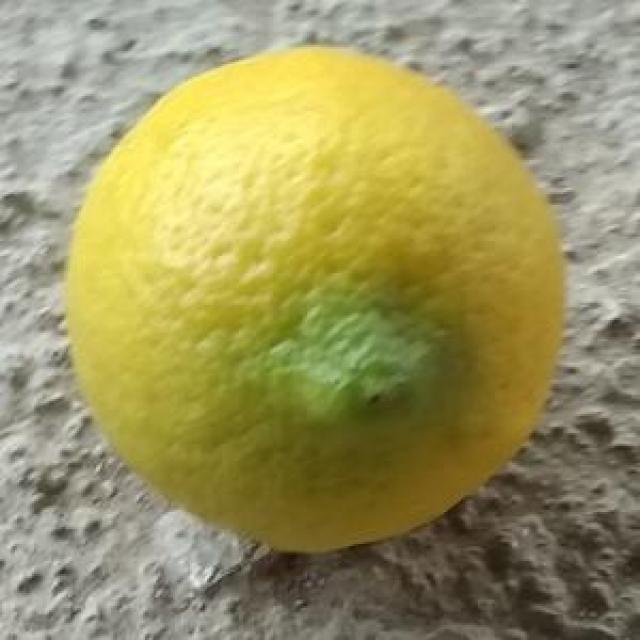lemon: (64, 44, 570, 555)
